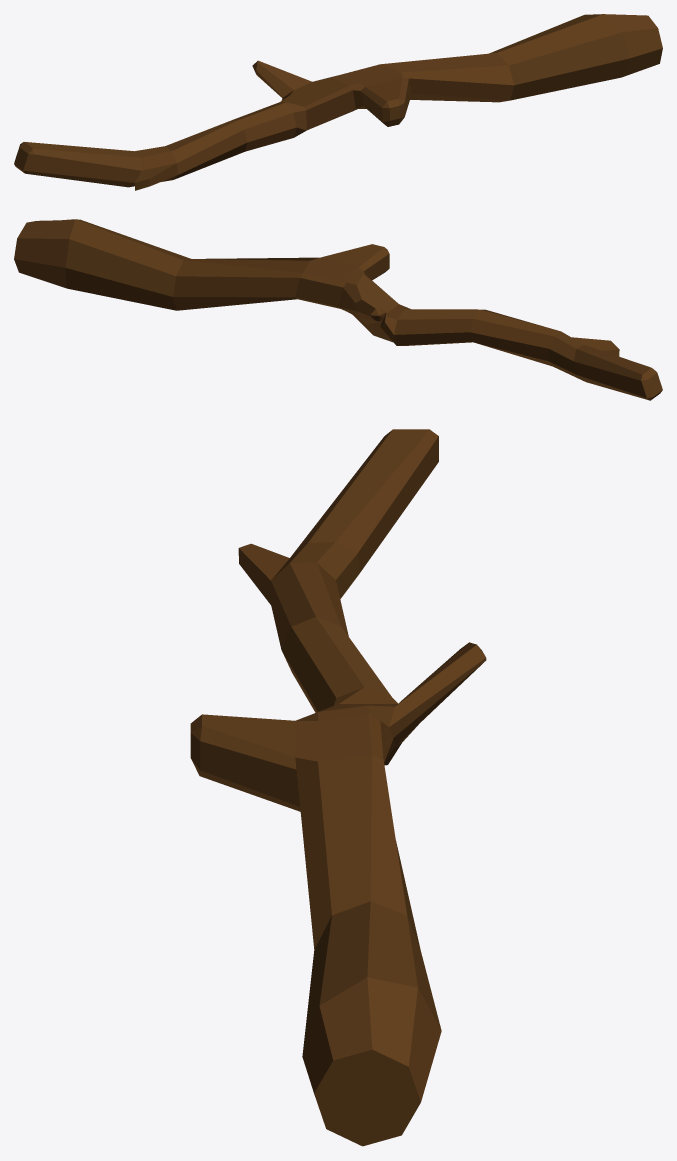
Rendered from Stick.fbx.
The picture shows the model from 3 angles, top to bottom: view 1: azimuth 30°, elevation 25°; view 2: azimuth 150°, elevation 25°; view 3: azimuth 270°, elevation 25°; orthographic projection. The views are drawn at different scales.
Visible parts, largest first — view 1: Cube; view 2: Cube; view 3: Cube.
Part boxes in pixels (box(x1,y1,x2,y2)): Cube: box(14, 14, 662, 190); Cube: box(14, 219, 662, 400); Cube: box(190, 429, 486, 1146).
Bounding box in the file's own units: 2139 × 255 × 441.
